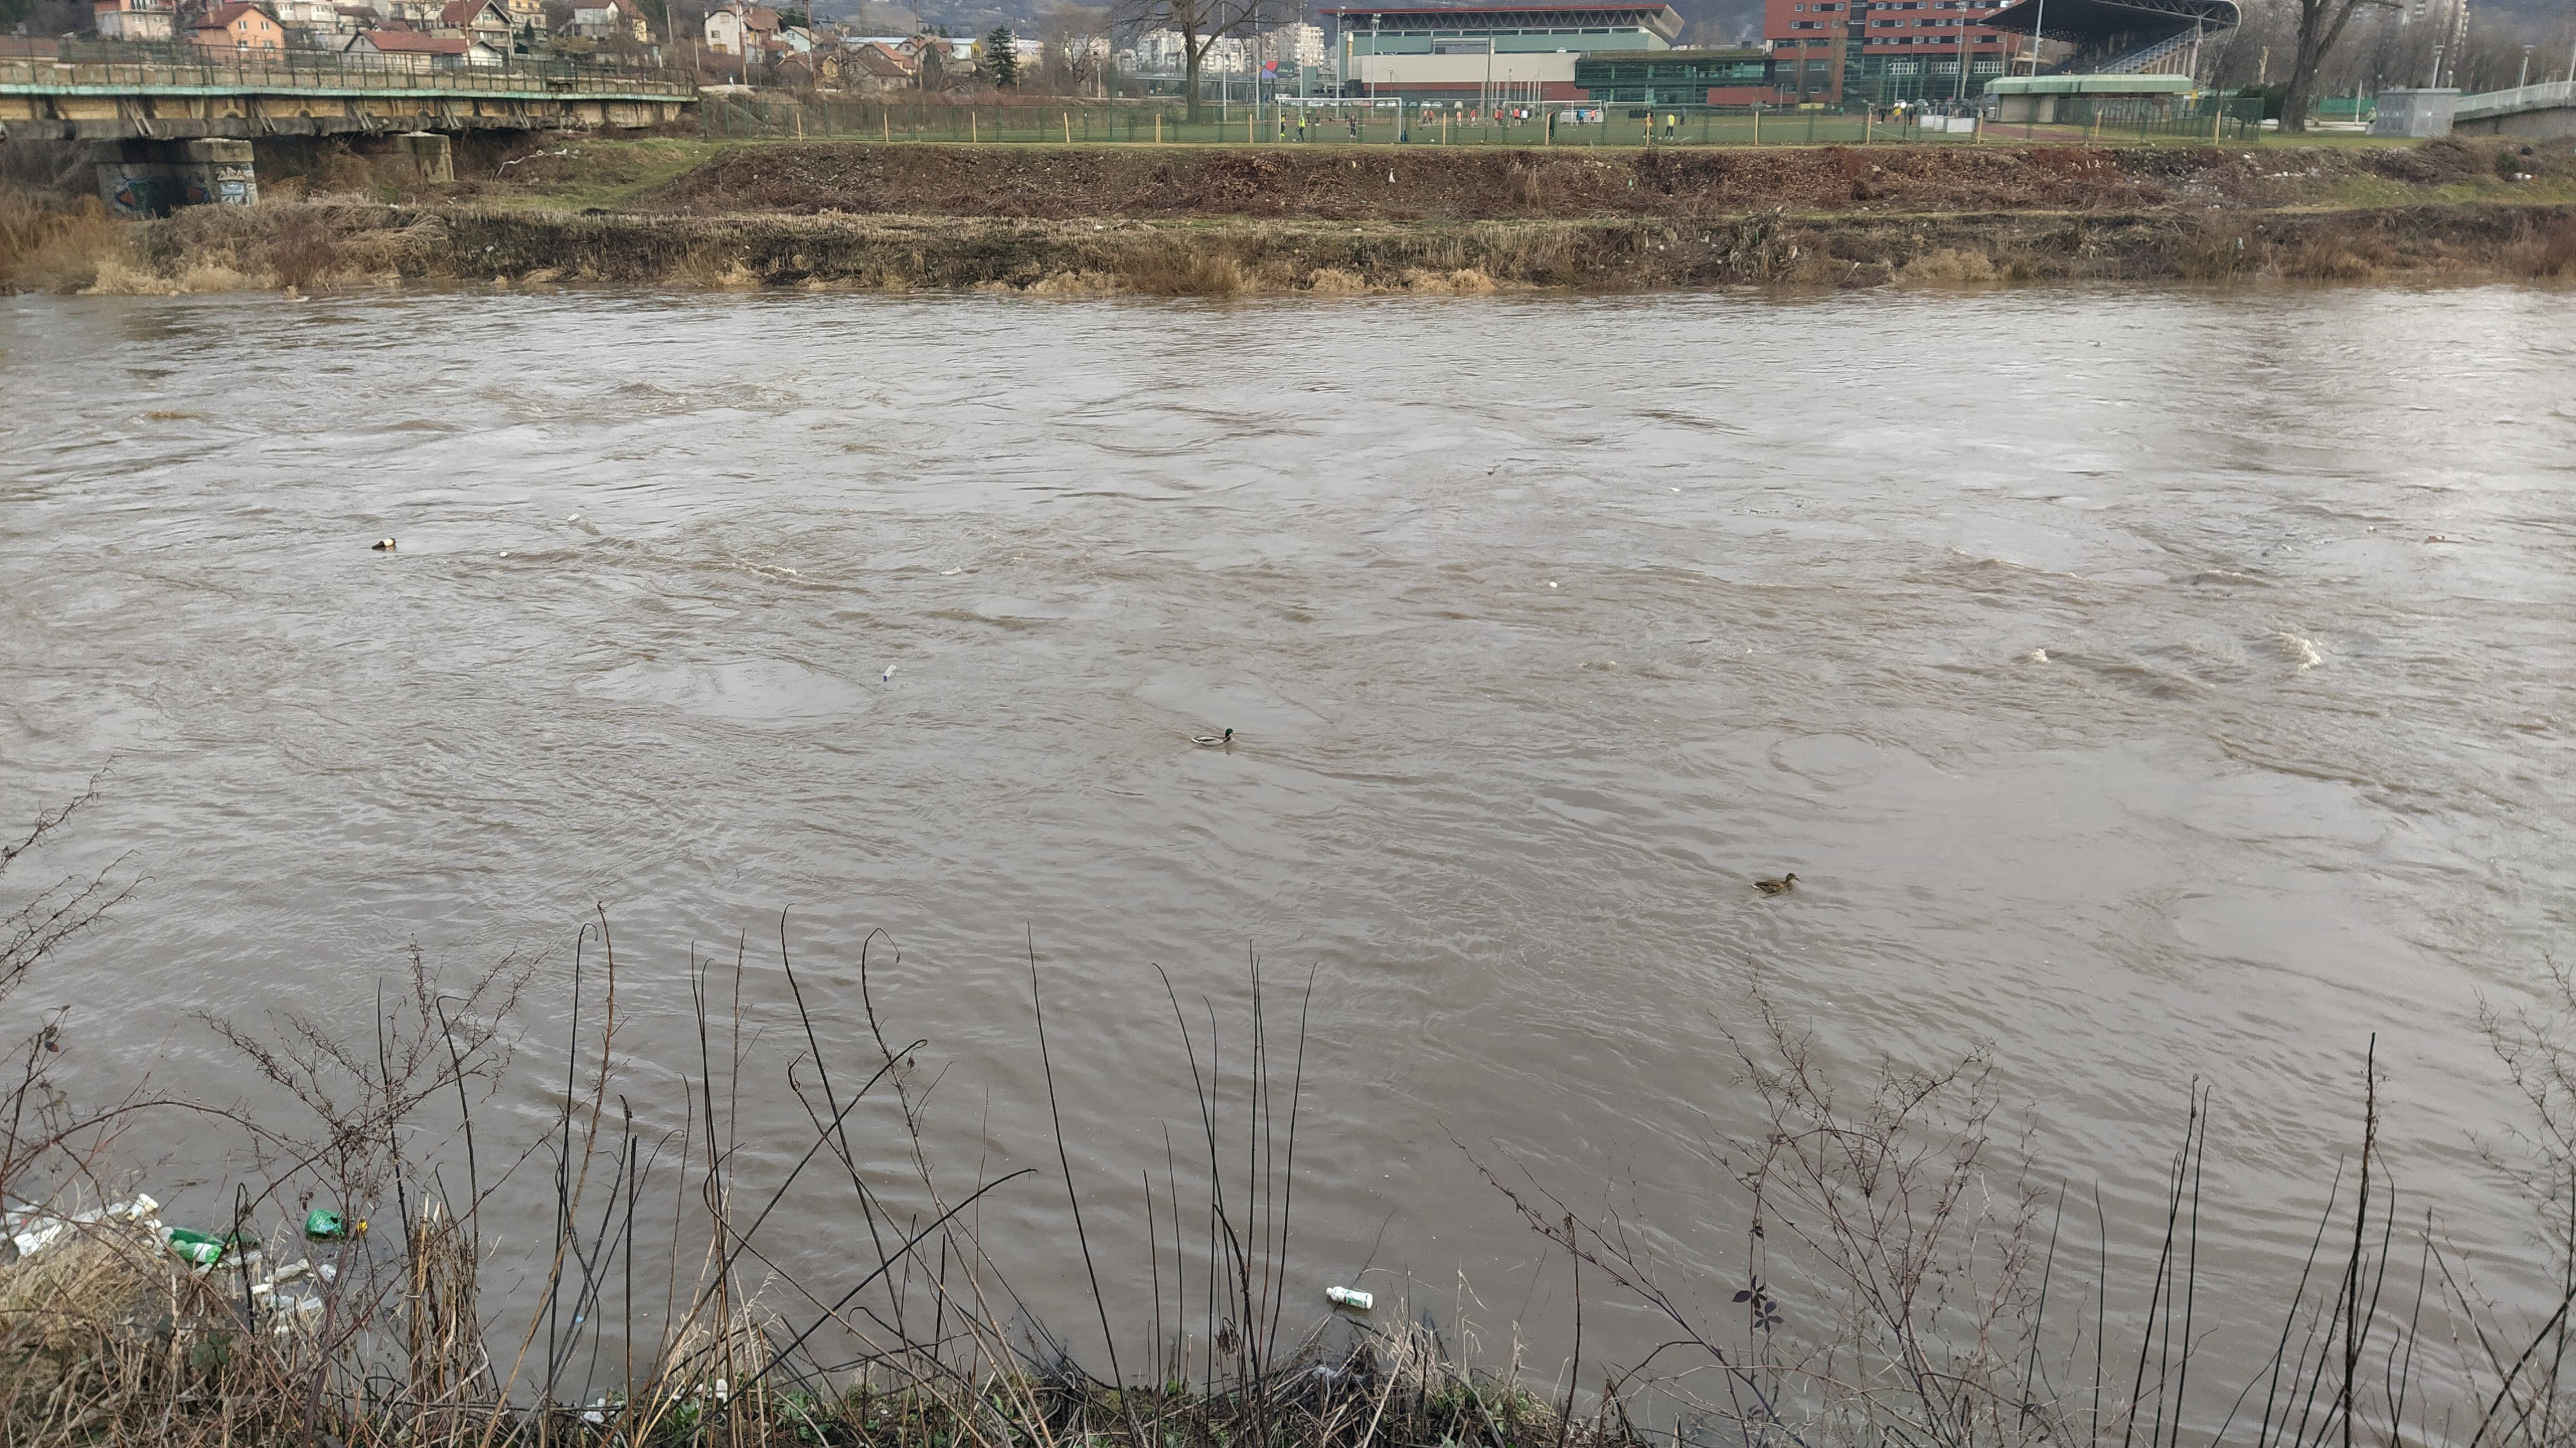Plastic Bottle: (306, 1207, 366, 1236), (69, 1200, 127, 1228), (0, 1216, 58, 1243), (278, 1296, 322, 1322), (1325, 1287, 1373, 1310), (173, 1241, 219, 1262), (264, 1259, 308, 1280), (170, 1228, 223, 1244), (2, 1200, 39, 1220), (218, 1252, 262, 1267), (221, 1232, 260, 1246), (156, 1227, 170, 1257), (267, 1294, 294, 1308), (320, 1264, 336, 1283), (372, 536, 395, 549), (883, 664, 895, 683), (938, 566, 961, 575), (0, 1218, 23, 1227), (189, 1264, 211, 1273), (253, 1283, 271, 1294), (568, 513, 579, 522), (2429, 535, 2443, 540), (2281, 543, 2291, 551), (1670, 487, 1679, 492), (499, 551, 506, 556), (1550, 581, 1555, 586), (2367, 526, 2374, 529)
